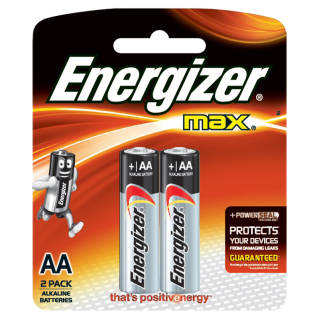Battery: (117, 145, 161, 295), (160, 144, 201, 296)
